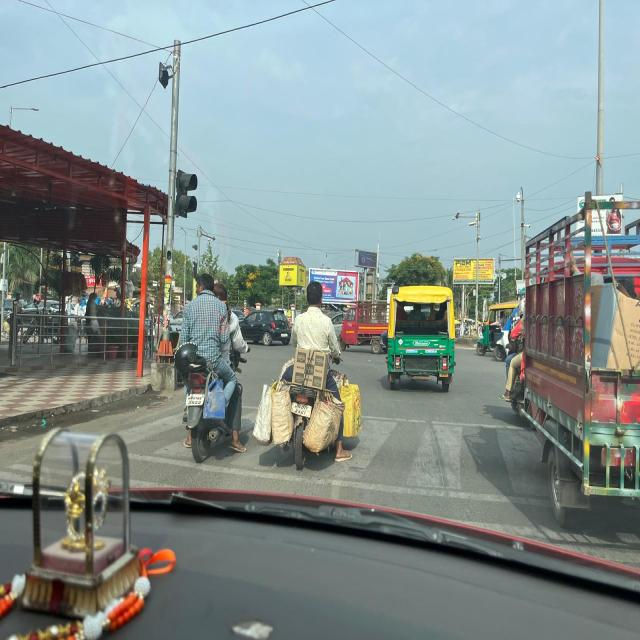bike: (168, 338, 248, 464)
car: (246, 304, 292, 351), (24, 297, 59, 317)
